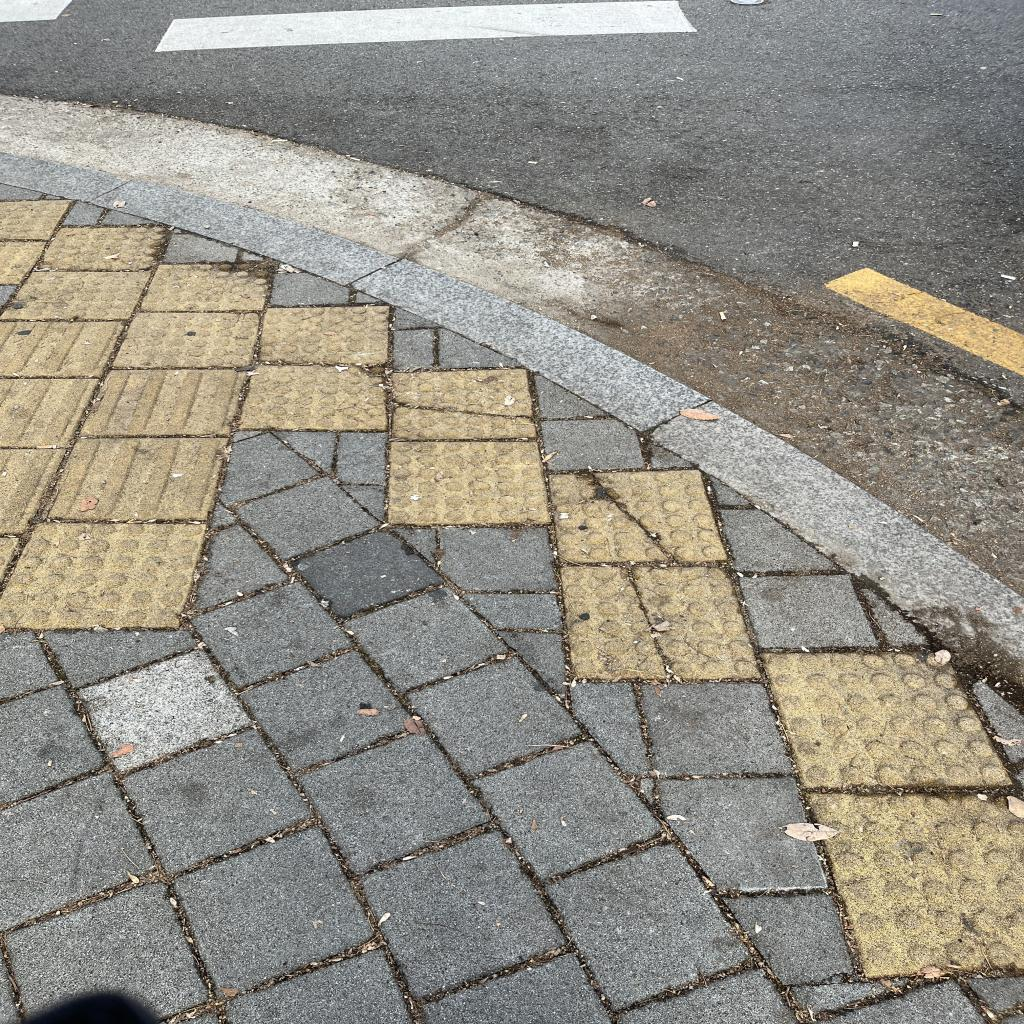Stop block broken: (562, 565, 764, 680), (549, 470, 726, 562), (390, 370, 535, 439)
Stop block normal: (763, 649, 1010, 789), (388, 440, 549, 523), (239, 365, 385, 429), (257, 307, 390, 365)
Straight block normal: (44, 439, 226, 519), (80, 369, 247, 436)
